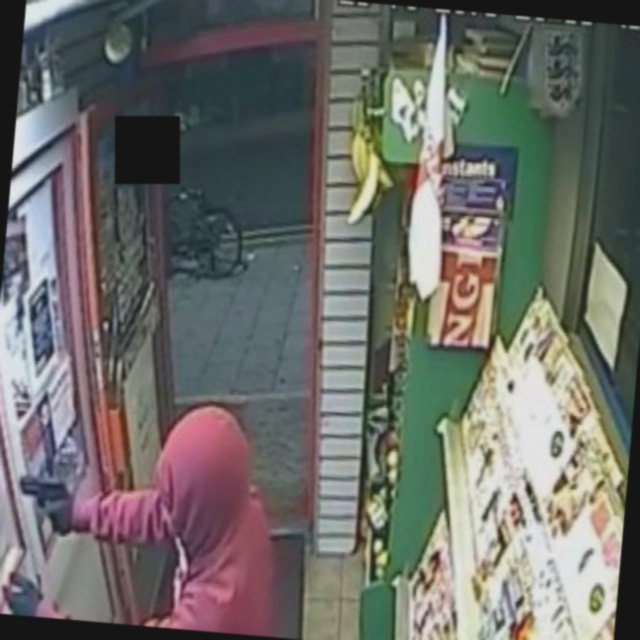gun: (4, 456, 98, 556)
